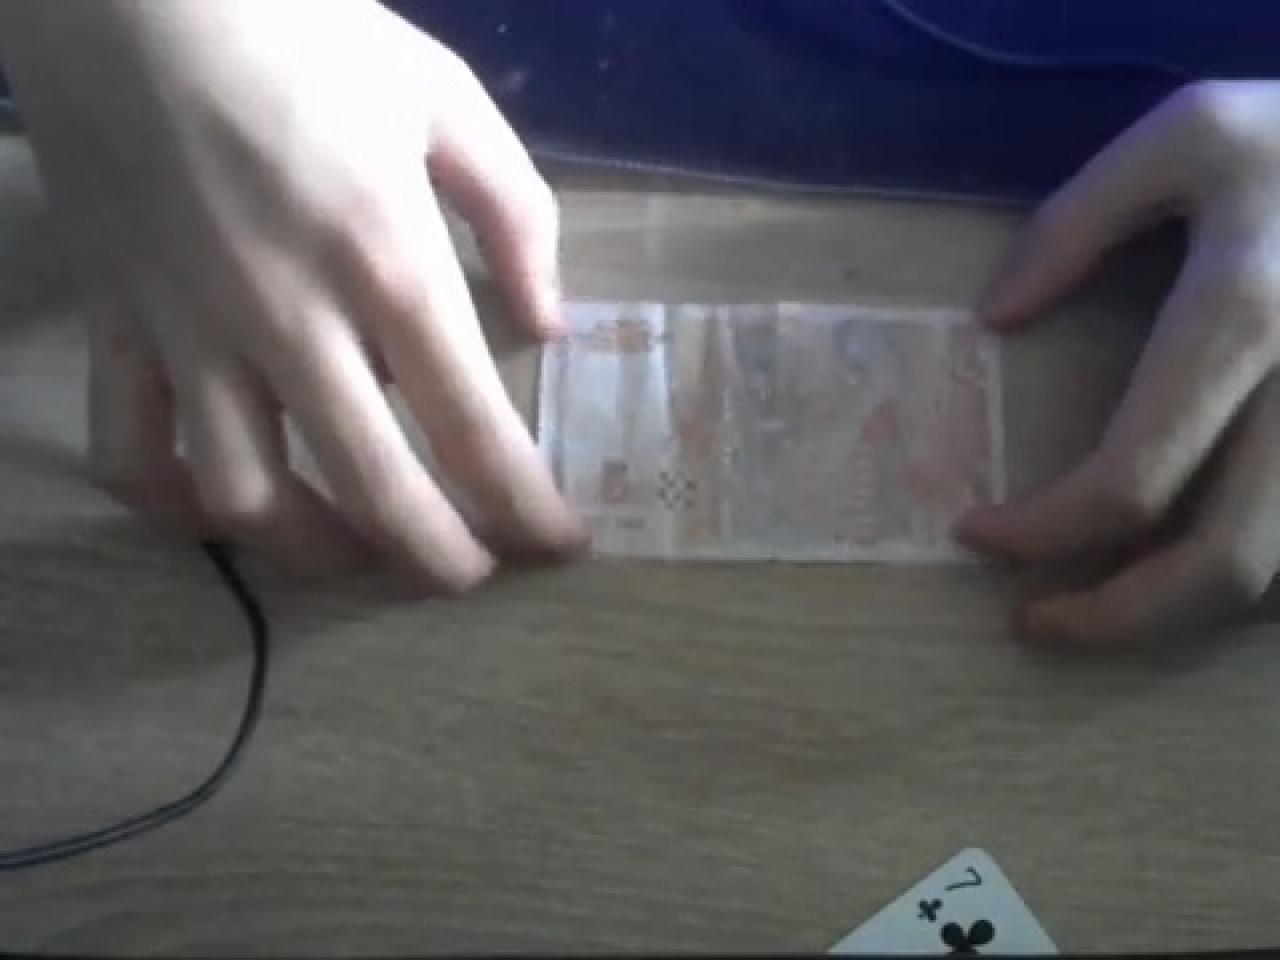5leva: (536, 293, 1019, 566)
